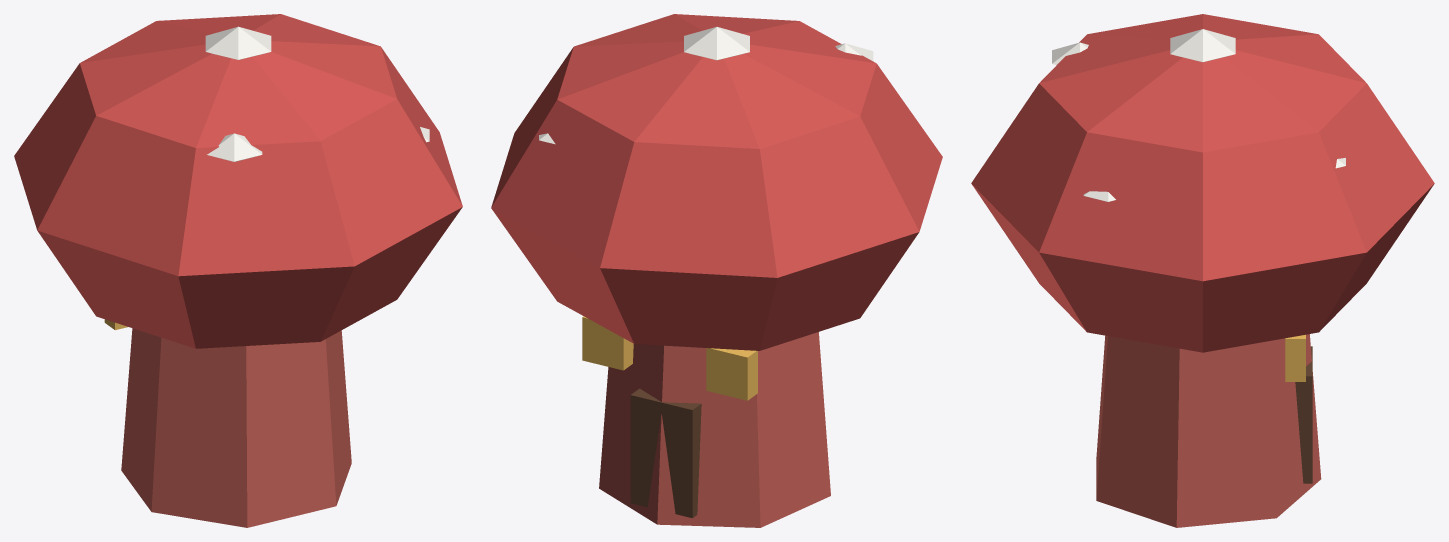
File: deco_mushroom_house.obj
3 views of the same model, side by side, from view 1: azimuth 30°, elevation 25°; view 2: azimuth 150°, elevation 25°; view 3: azimuth 270°, elevation 25° (orthographic).
Parts seen in each view (by area): view 1: deco_mushroom_house; view 2: deco_mushroom_house; view 3: deco_mushroom_house.
Boxes of the visible parts, box(x1,y1,x2,y2) form: deco_mushroom_house: box(14, 14, 462, 527); deco_mushroom_house: box(491, 14, 942, 527); deco_mushroom_house: box(971, 14, 1434, 527).
Bounding box in the file's own units: 0.049 × 0.0525 × 0.049.
Materials: 1 (1 with a texture image).
